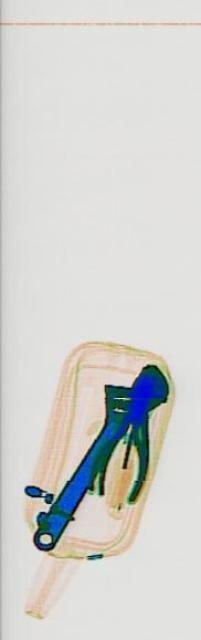Wrench: (24, 306, 167, 582)
